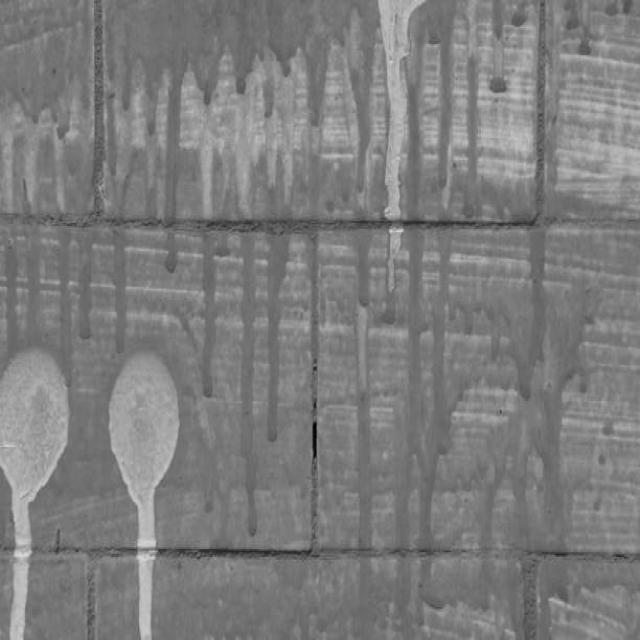paint drips: (0, 221, 640, 640), (0, 0, 640, 276)
